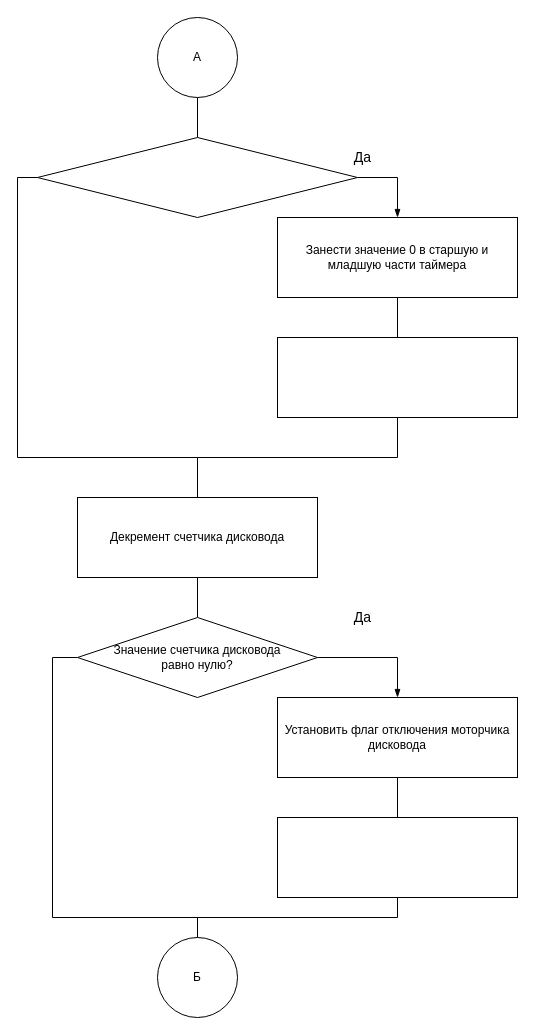
This 535x1035 diagram has some shape labels left out. Here are the shapes that lost their labels. From the top down, the centre of each, then its label:
At point 197,177: "Значение старшей части таймера равно 24 и значение младшей части равно 176?".
At point 397,377: "Установить флаг timer_rolled".
At point 397,857: "Послать команду отключения моторчика дисковода (0Ch) в порт дисковода (3F2h)".
